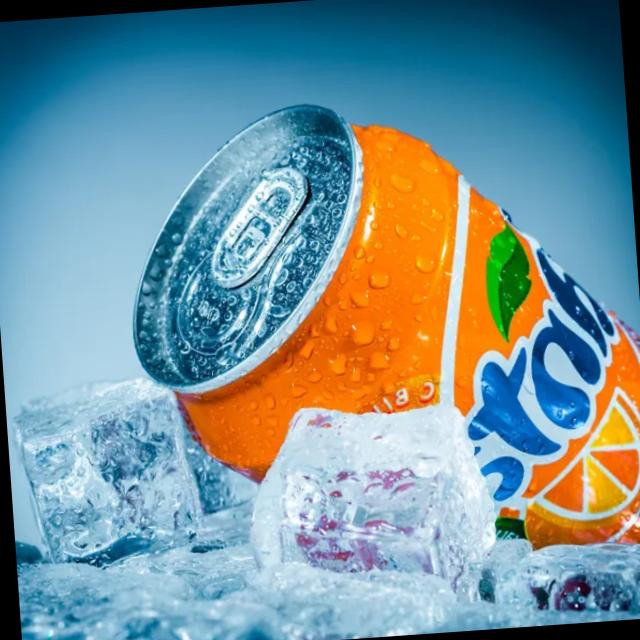fanta: (110, 83, 640, 607)
